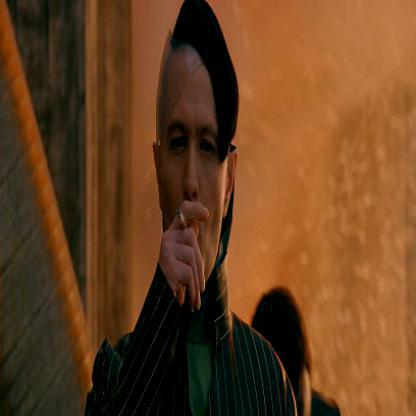cigarette: (176, 206, 188, 231)
person: (149, 1, 247, 415)
